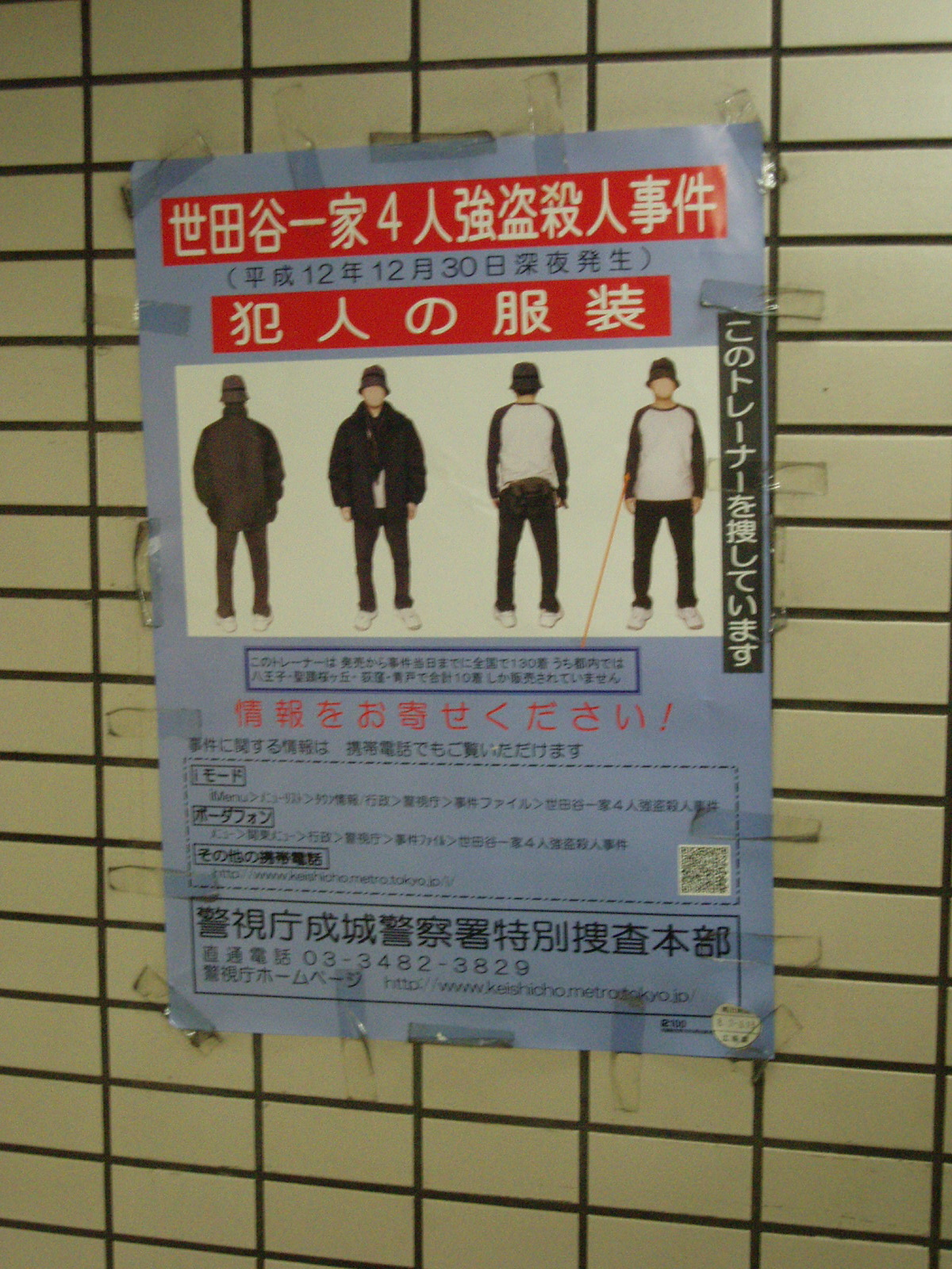QR-CODE: (681, 847, 728, 893)
